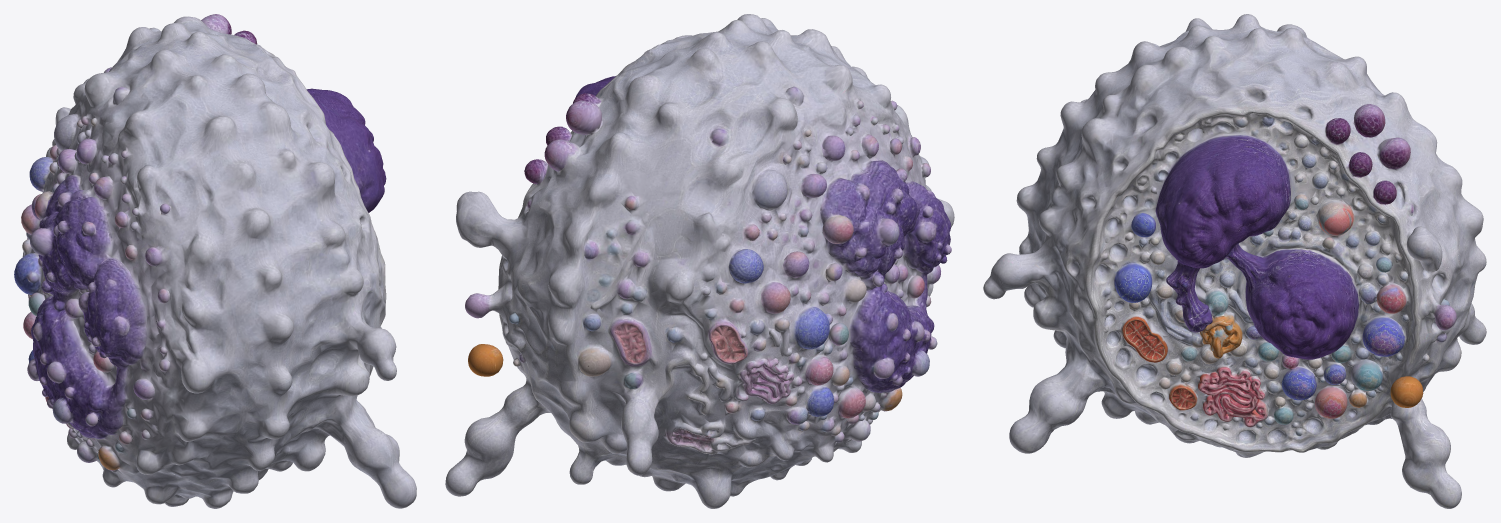
The model's file is white-blood-cell.glb.
The picture shows the model from 3 angles, left to right: view 1: azimuth 30°, elevation 25°; view 2: azimuth 150°, elevation 25°; view 3: azimuth 270°, elevation 25°; orthographic projection. The views are drawn at different scales.
Visible parts, largest first — view 1: tripo_node_fd188900-3cf8-461f-9c13-ceab28008175; view 2: tripo_node_fd188900-3cf8-461f-9c13-ceab28008175; view 3: tripo_node_fd188900-3cf8-461f-9c13-ceab28008175.
Part boxes in pixels (x1,y1,x2,y2): tripo_node_fd188900-3cf8-461f-9c13-ceab28008175: (14, 14, 416, 508); tripo_node_fd188900-3cf8-461f-9c13-ceab28008175: (445, 14, 954, 508); tripo_node_fd188900-3cf8-461f-9c13-ceab28008175: (983, 14, 1486, 508).
Size of the model in its own units: 0.7481 by 0.9234 by 0.9808.
Materials: 1 (1 with a texture image).
